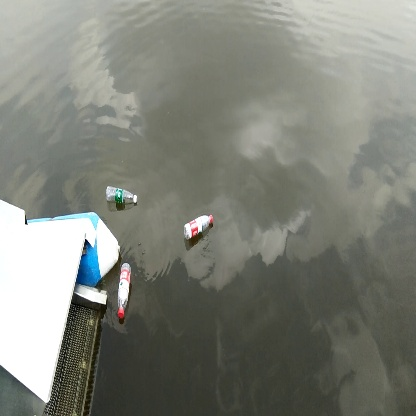bottle: (182, 212, 216, 246), (116, 261, 134, 323), (103, 182, 139, 211)
